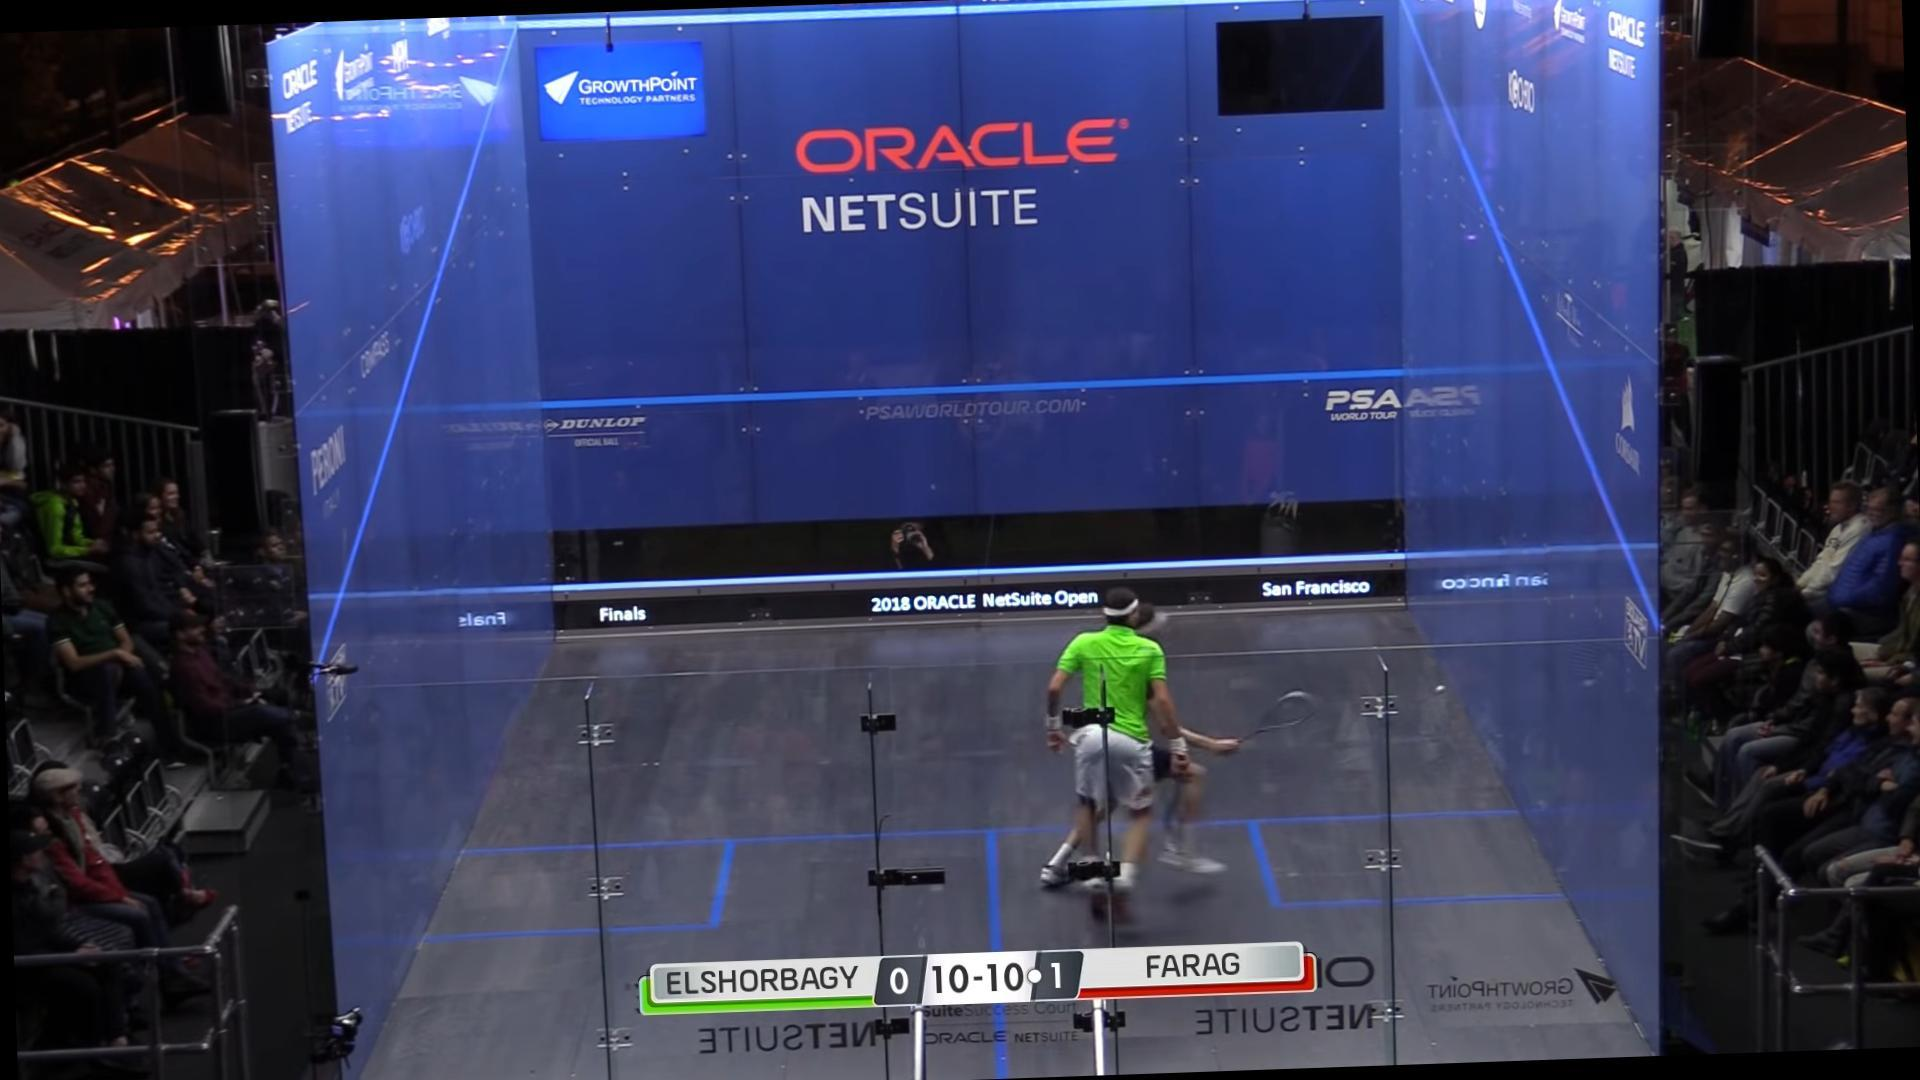Squash-Ball: (1429, 676, 1460, 703)
